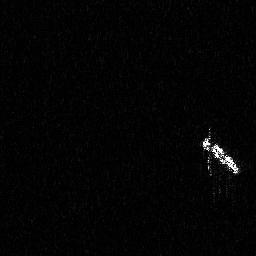ship: (199, 125, 243, 178)
